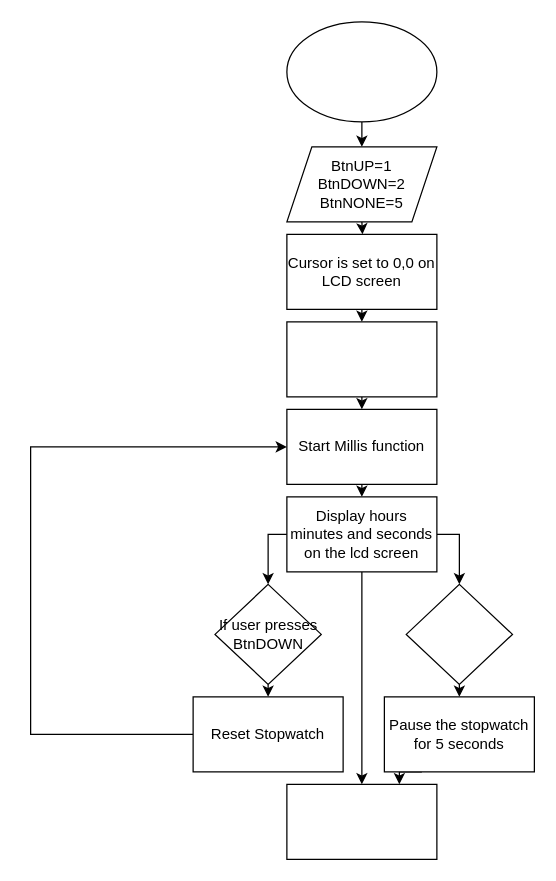
Some shapes in this 556 by 881 pixel diagram are drawn without their labels. The shapes that lost their labels are listed below. From the top down, each one's centre as x and y in pixels, then its label:
At [361,71]: "Start".
At [361,359]: "Read buttons function".
At [458,633]: "If user presses BtnUP".
At [361,821]: "Stopwatch continues".
